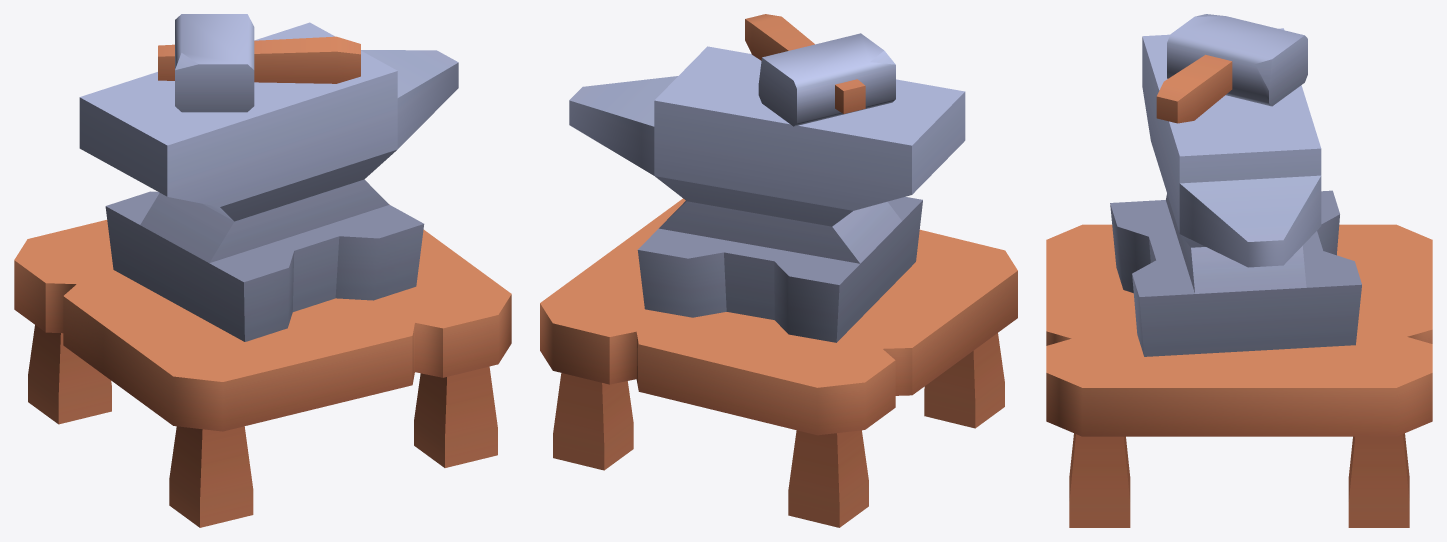
The model's file is kenney-survival-workbench-anvil.glb.
The picture shows the model from 3 angles, left to right: view 1: azimuth 30°, elevation 25°; view 2: azimuth 150°, elevation 25°; view 3: azimuth 270°, elevation 25°; orthographic projection. The views are drawn at different scales.
Visible parts, largest first — view 1: workbench-anvil; view 2: workbench-anvil; view 3: workbench-anvil.
Part boxes in pixels (left/top/right/bottom): workbench-anvil: left=14, top=14, right=511, bottom=527; workbench-anvil: left=540, top=14, right=1017, bottom=527; workbench-anvil: left=1046, top=14, right=1432, bottom=527.
Size of the model in its own units: 0.3227 by 0.3357 by 0.2957.
Materials: 1 (1 with a texture image).
